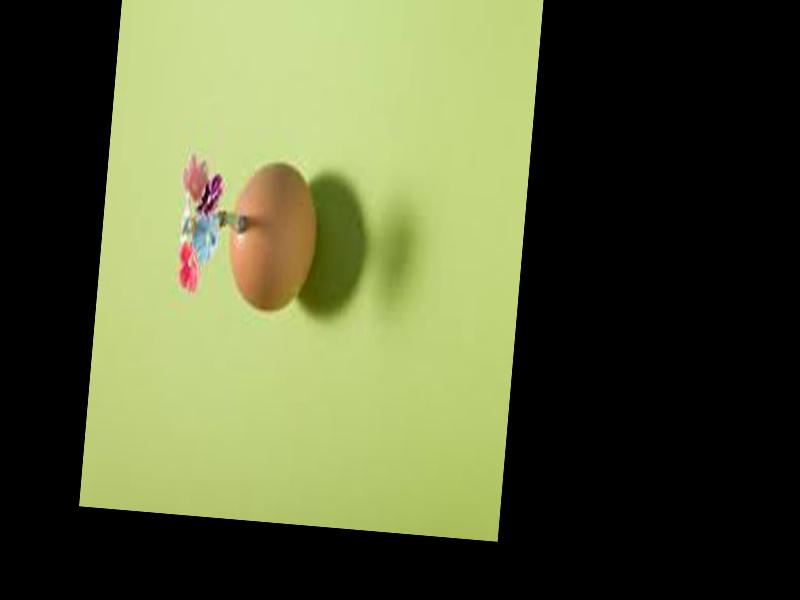Eggs: (225, 160, 322, 313)
